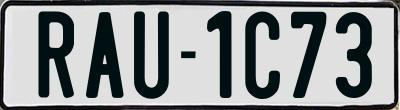1: (204, 9, 235, 97)
3: (335, 9, 377, 100)
7: (291, 9, 329, 99)
A: (83, 9, 124, 97)
C: (242, 8, 280, 96)
R: (37, 8, 78, 101)
U: (132, 8, 173, 102)
